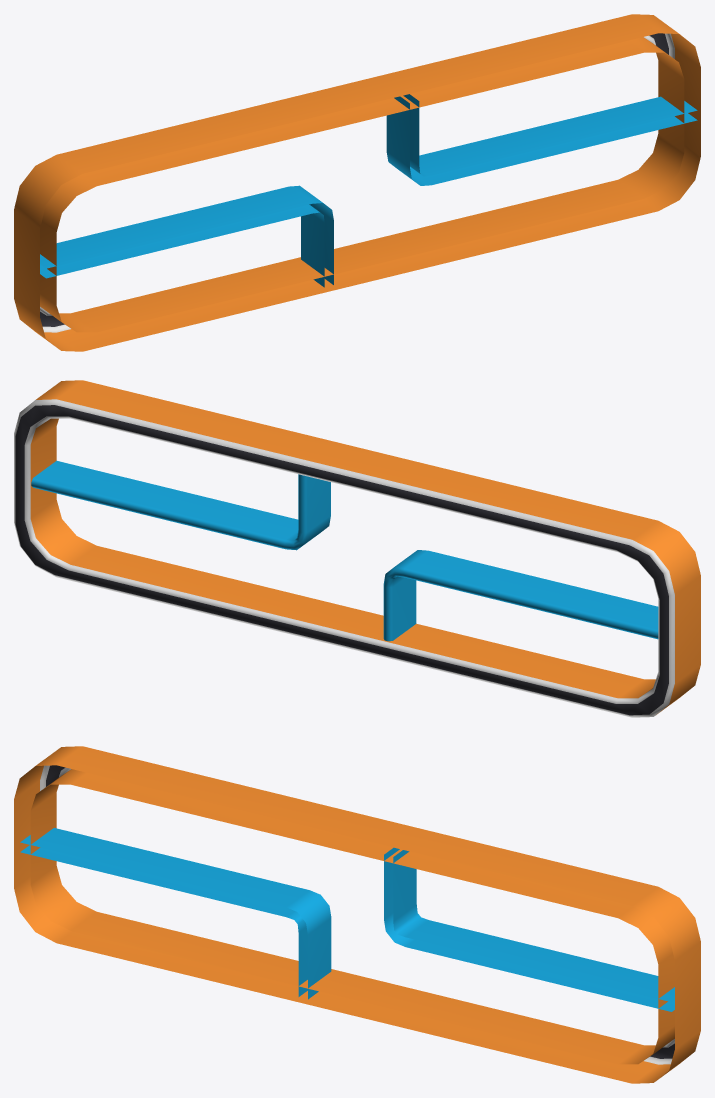
The model's file is Etagere Murale.fbx.
3 renders of one model, top to bottom at view 1: azimuth 30°, elevation 25°; view 2: azimuth 150°, elevation 25°; view 3: azimuth 330°, elevation 25°, orthographic.
Visible parts, largest first — view 1: Etagere_Murale; view 2: Etagere_Murale; view 3: Etagere_Murale.
Part boxes in pixels (<box>): Etagere_Murale: <box>14,14,700,351</box>; Etagere_Murale: <box>14,380,700,717</box>; Etagere_Murale: <box>14,746,700,1083</box>.
Size of the model in its own units: 262 by 67.43 by 19.44.
Materials: 1 (1 with a texture image).
